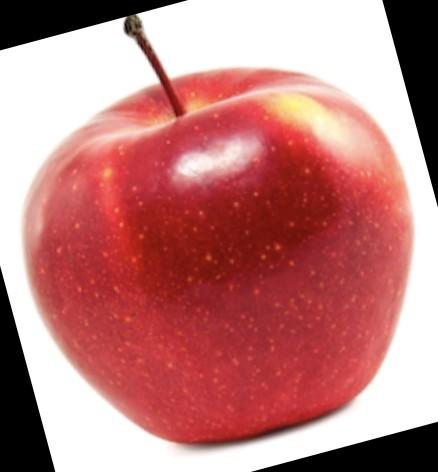fresh_apple: (23, 68, 414, 445)
